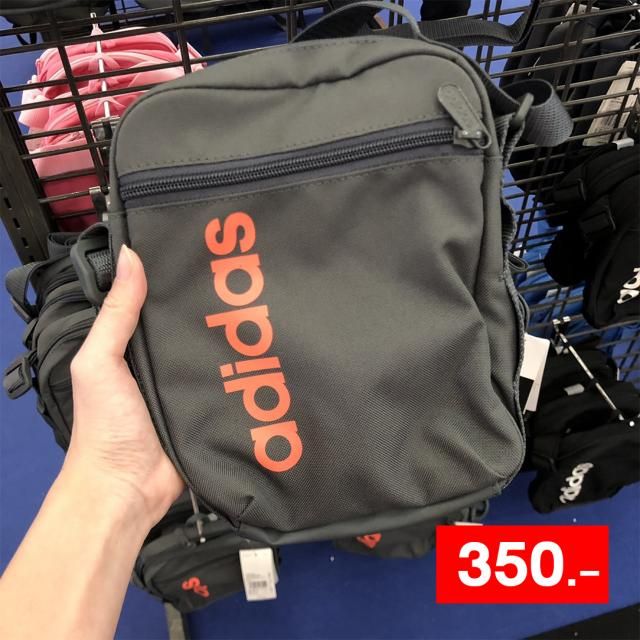handbag: (105, 29, 529, 548)
